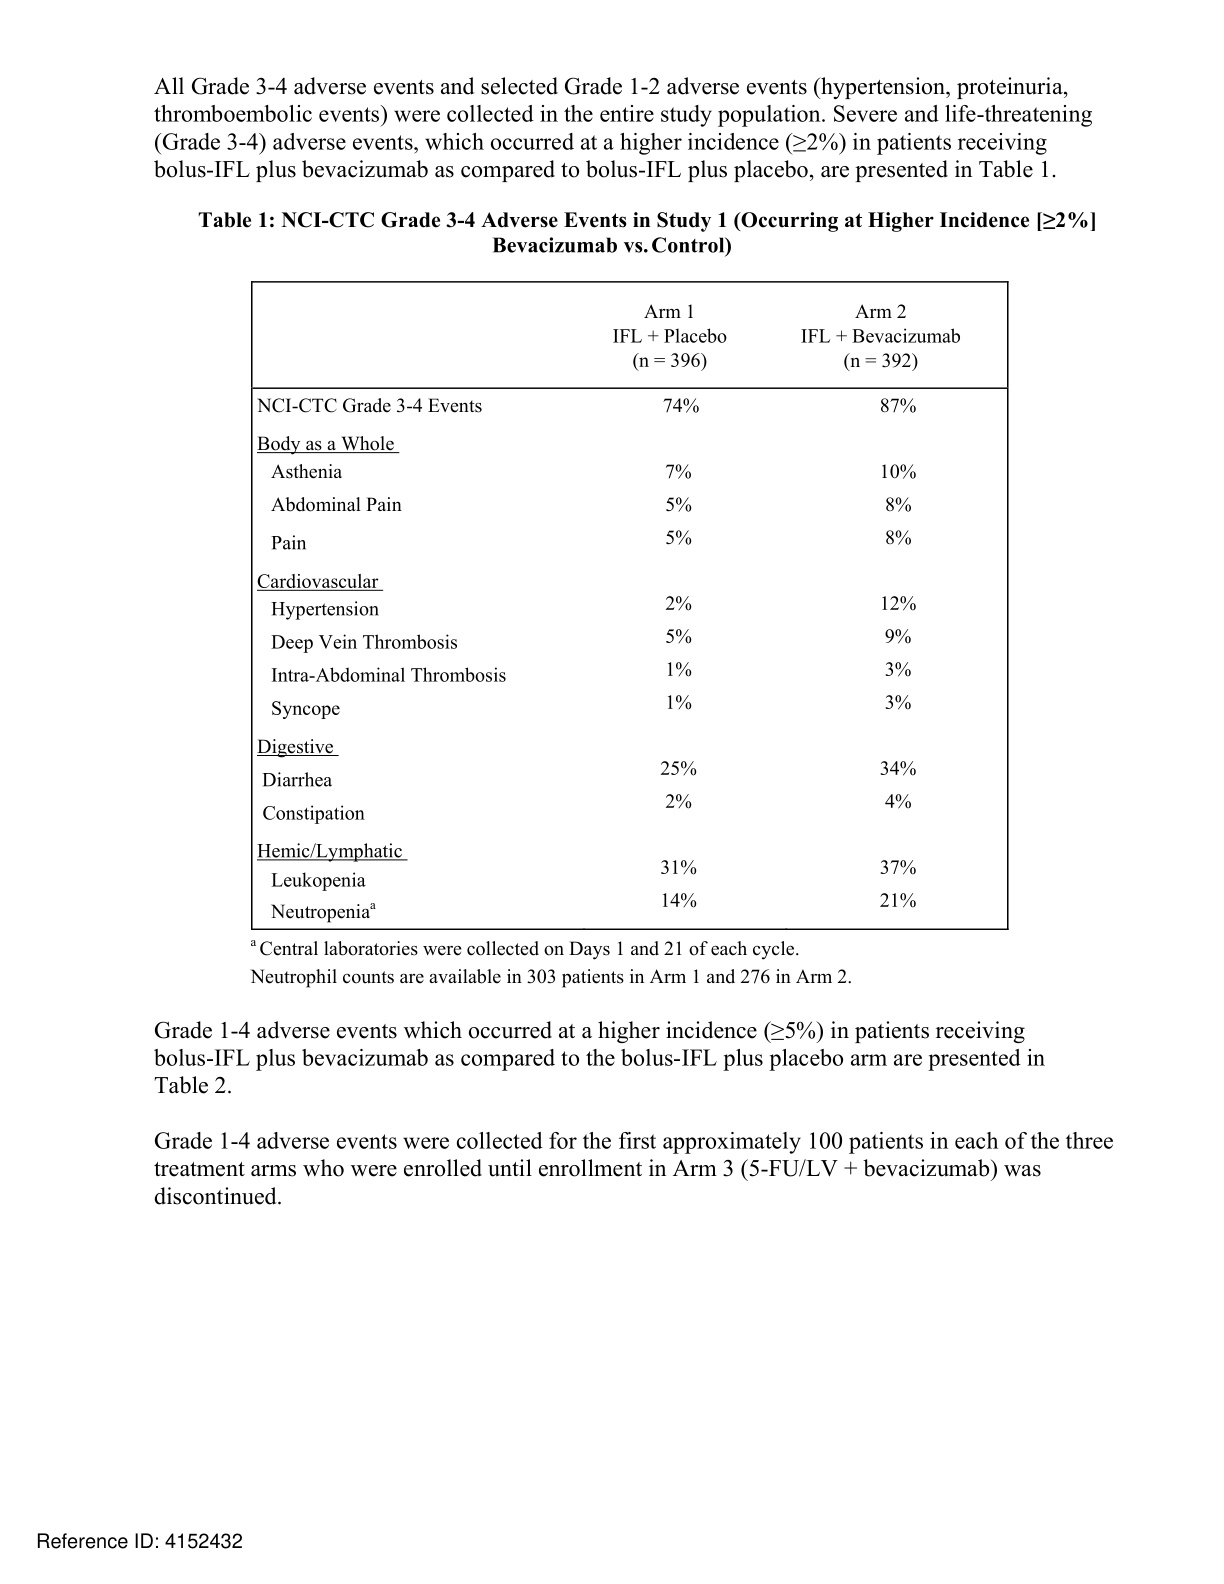partial_lined_merged_cells: (249, 279, 1009, 931)
